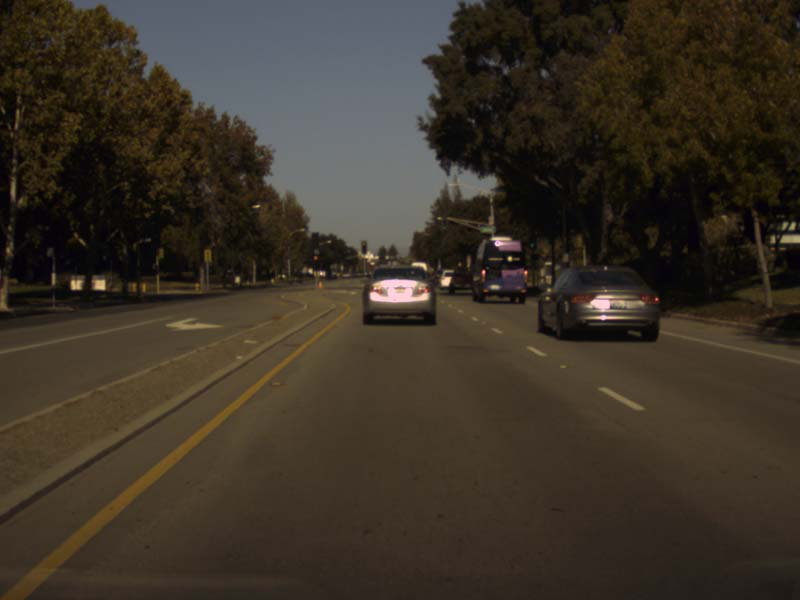Green: (529, 234, 535, 248), (442, 220, 446, 229)
Red: (361, 241, 366, 252)
Yellow: (312, 255, 318, 265)
